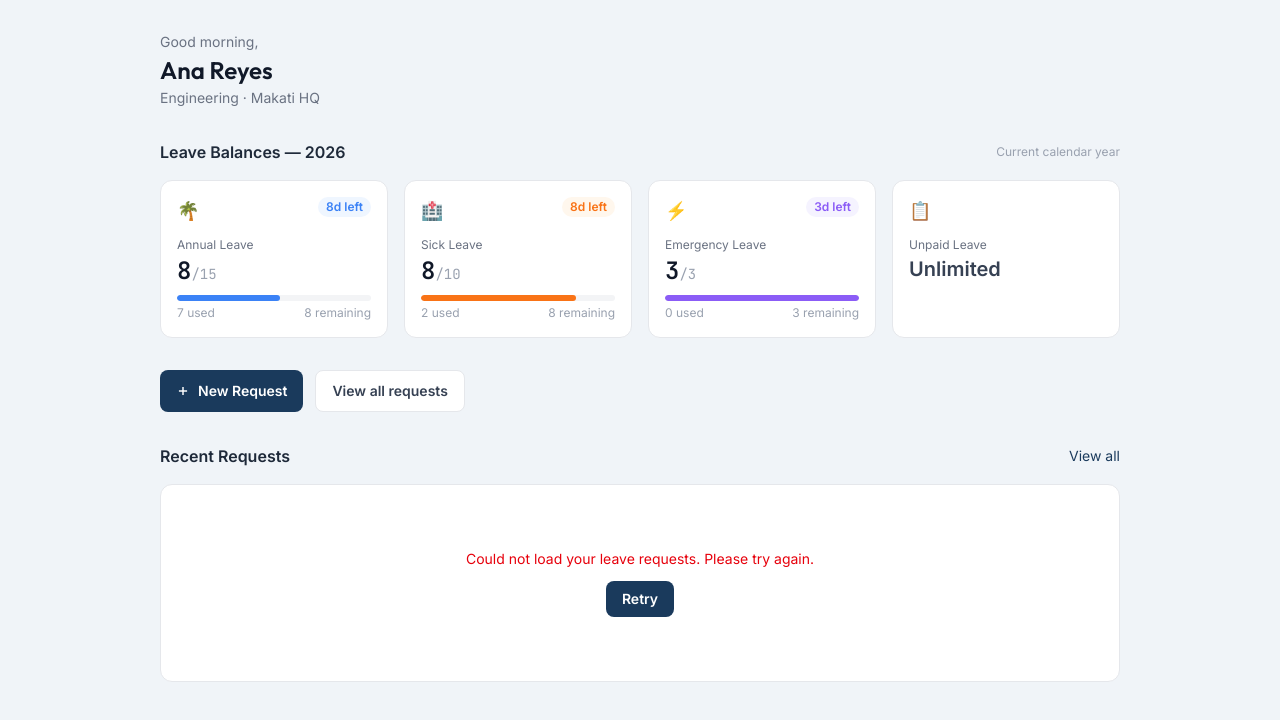
Dashboard recent requests › shows an error state and recovers via Retry
Expected: the text "Could not load your leave requests. Please try again." is shown, [466,550,814,567]
Click the button "Retry" at (640, 599), box [606,581,674,617]
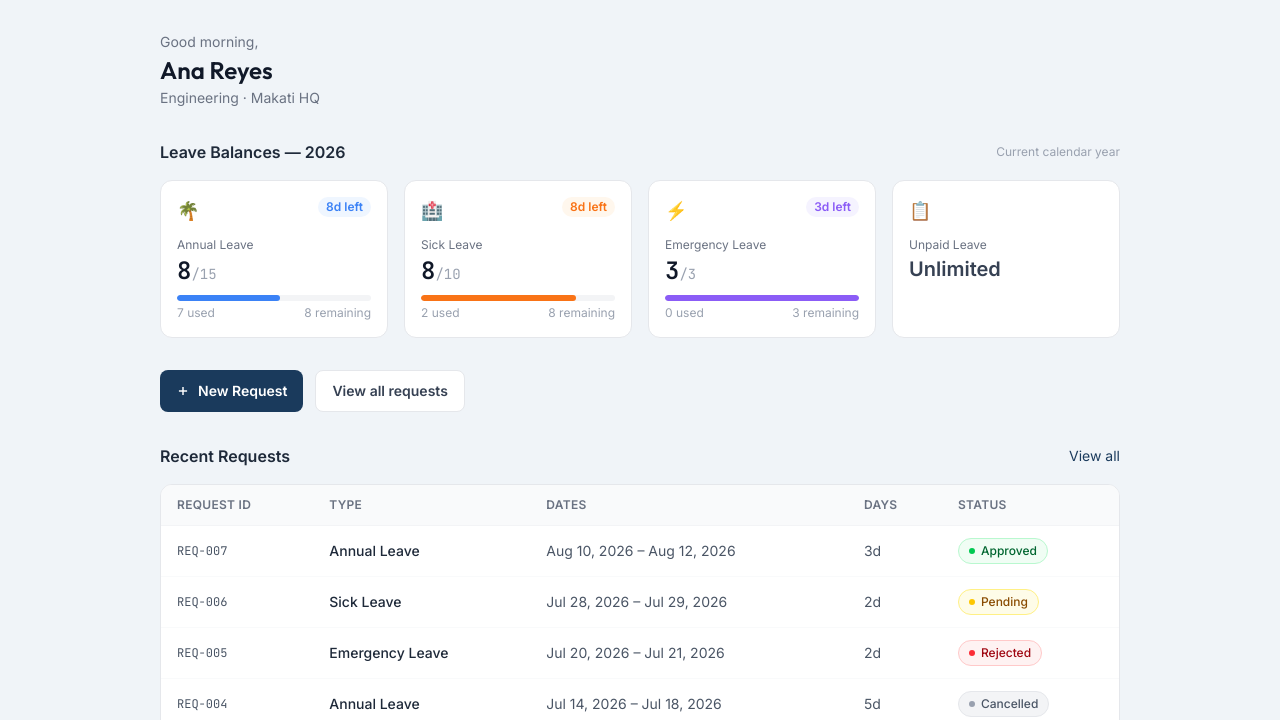
Result: the text "REQ-007" is shown at [161,526,313,576]
Result: the text "Could not load your leave requests" is gone
